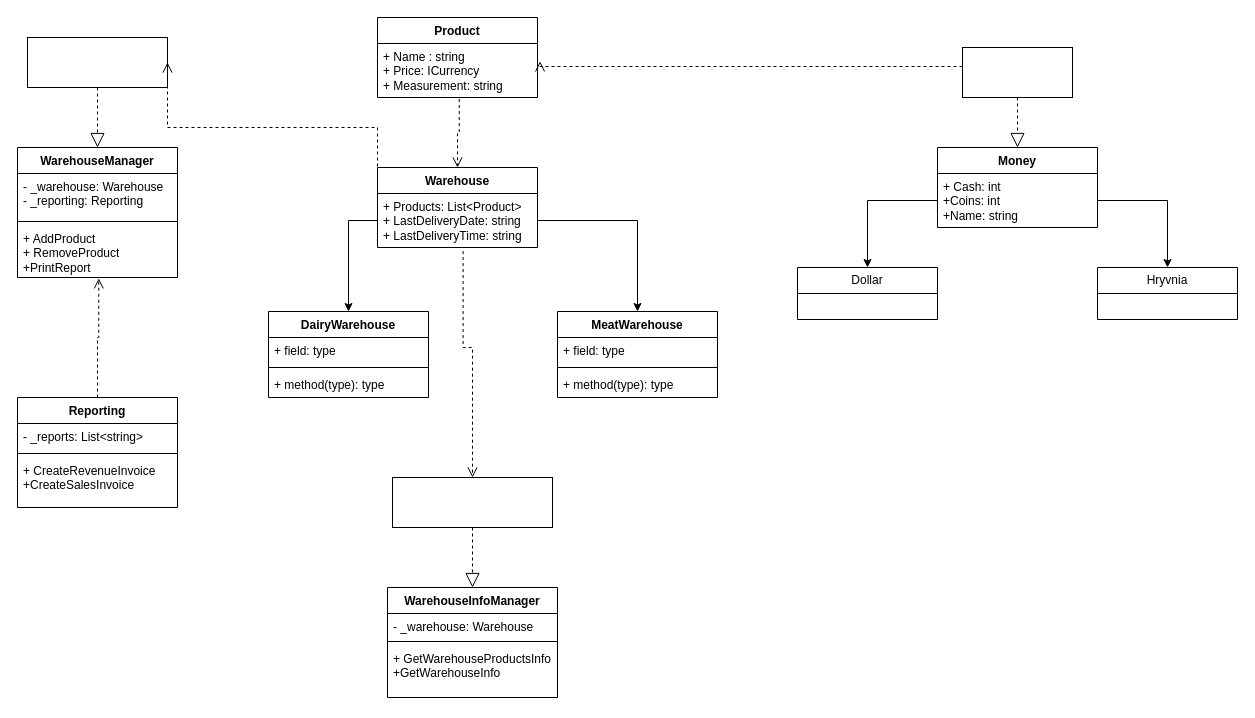
Some shapes in this 1255 by 718 pixel diagram are drawn without their labels. The centre of each missing label's shape, as x and y in pixels:
"«interface» ICurrency" belongs at point (1017, 72).
"«interface» IWarehouseInfoManager" belongs at point (472, 502).
"«interface» IWarehouseManager" belongs at point (97, 62).
